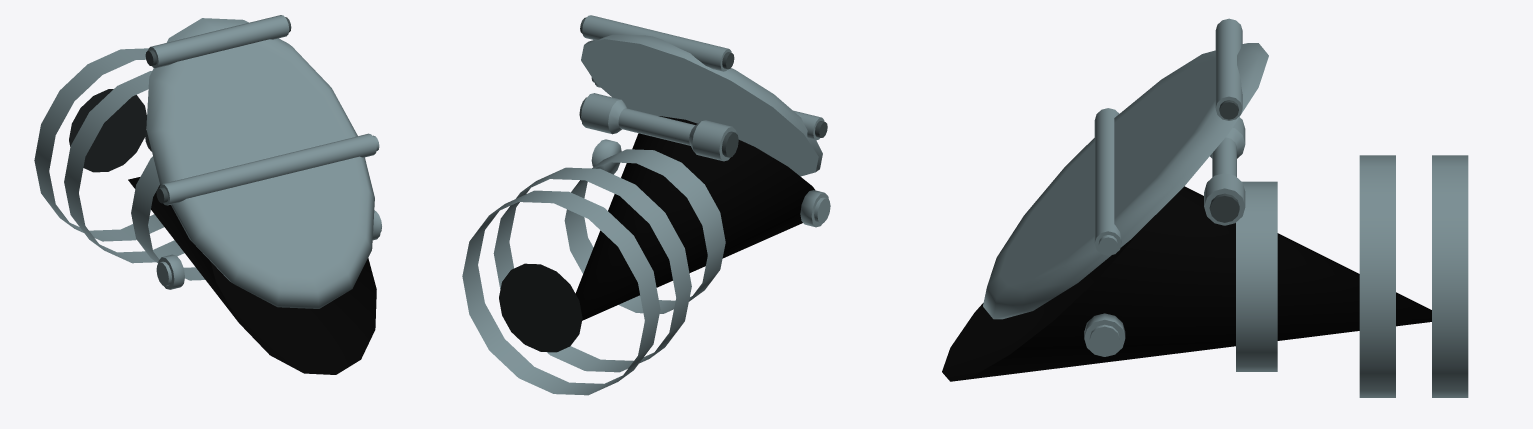
Rendered from fant_smoker_2.obj.
3 views of the same model, side by side, from view 1: azimuth 30°, elevation 25°; view 2: azimuth 150°, elevation 25°; view 3: azimuth 270°, elevation 25° (orthographic). The views are drawn at different scales.
Parts seen in each view (by area): view 1: fant_smoker_Circle; view 2: fant_smoker_Circle; view 3: fant_smoker_Circle.
Part boxes in pixels (left/top/right/bottom): fant_smoker_Circle: left=34, top=15, right=381, bottom=374; fant_smoker_Circle: left=462, top=15, right=830, bottom=395; fant_smoker_Circle: left=942, top=18, right=1468, bottom=397.
Size of the model in its own units: 1 by 1.18 by 1.94.
